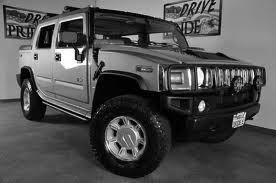car: (16, 6, 268, 178)
